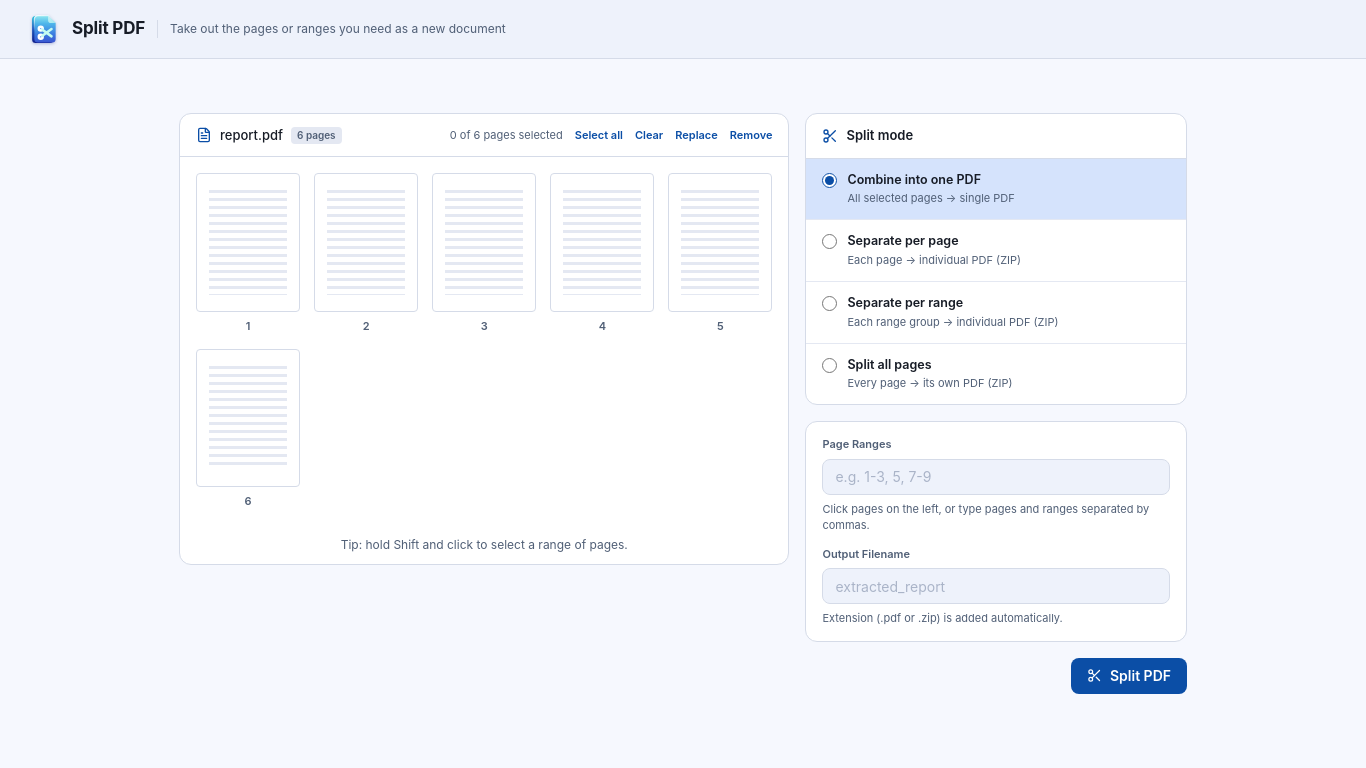
Scenario: extract page › shows the pages of a dropped PDF and keeps the grid and the field in step
The width and height of the screenshot is (1366, 768).
Expected: the text "6 pages" is shown, top-left (291, 127), bottom-right (342, 144)
Expected: the text "report.pdf" is shown, top-left (220, 126), bottom-right (283, 144)
Click the button "2".
click(366, 254)  # box top-left (314, 173), bottom-right (418, 335)
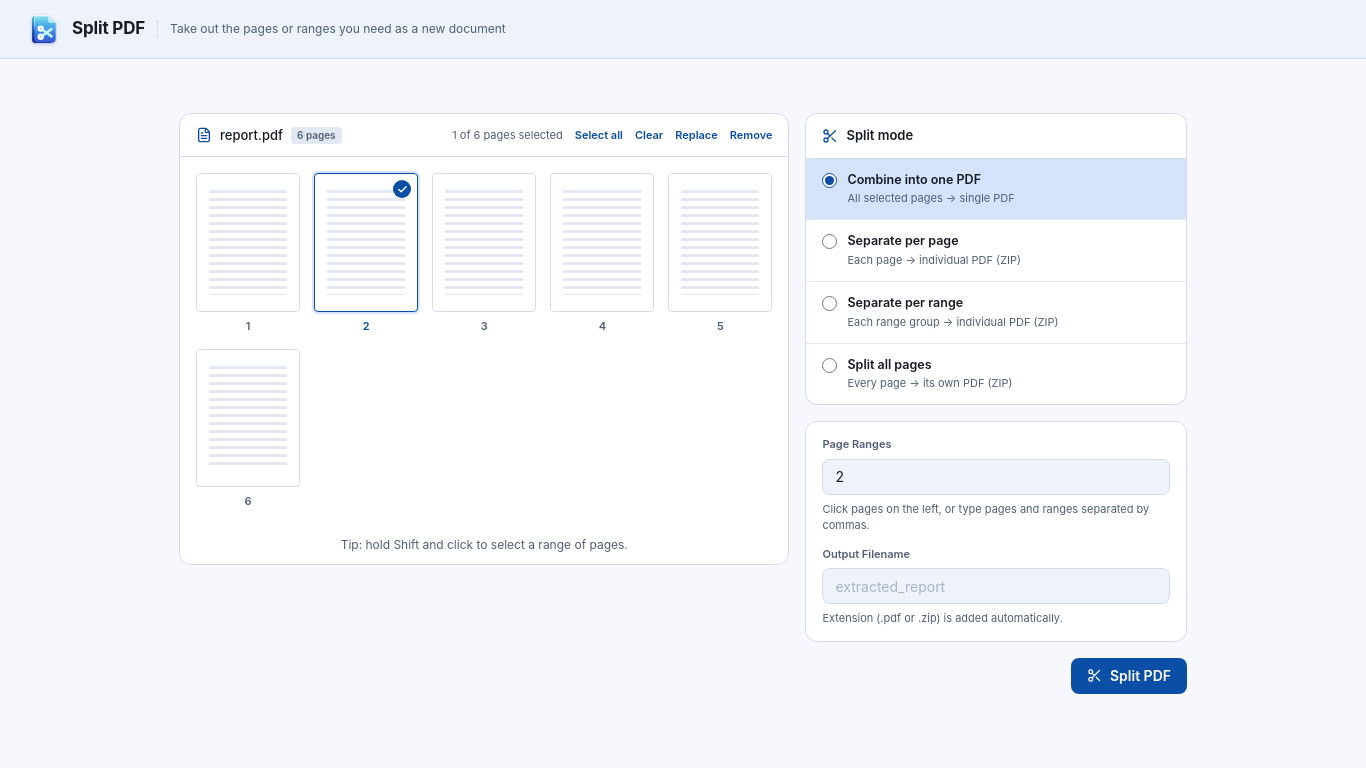
Click the button "3".
click(484, 254)  # box top-left (432, 173), bottom-right (536, 335)
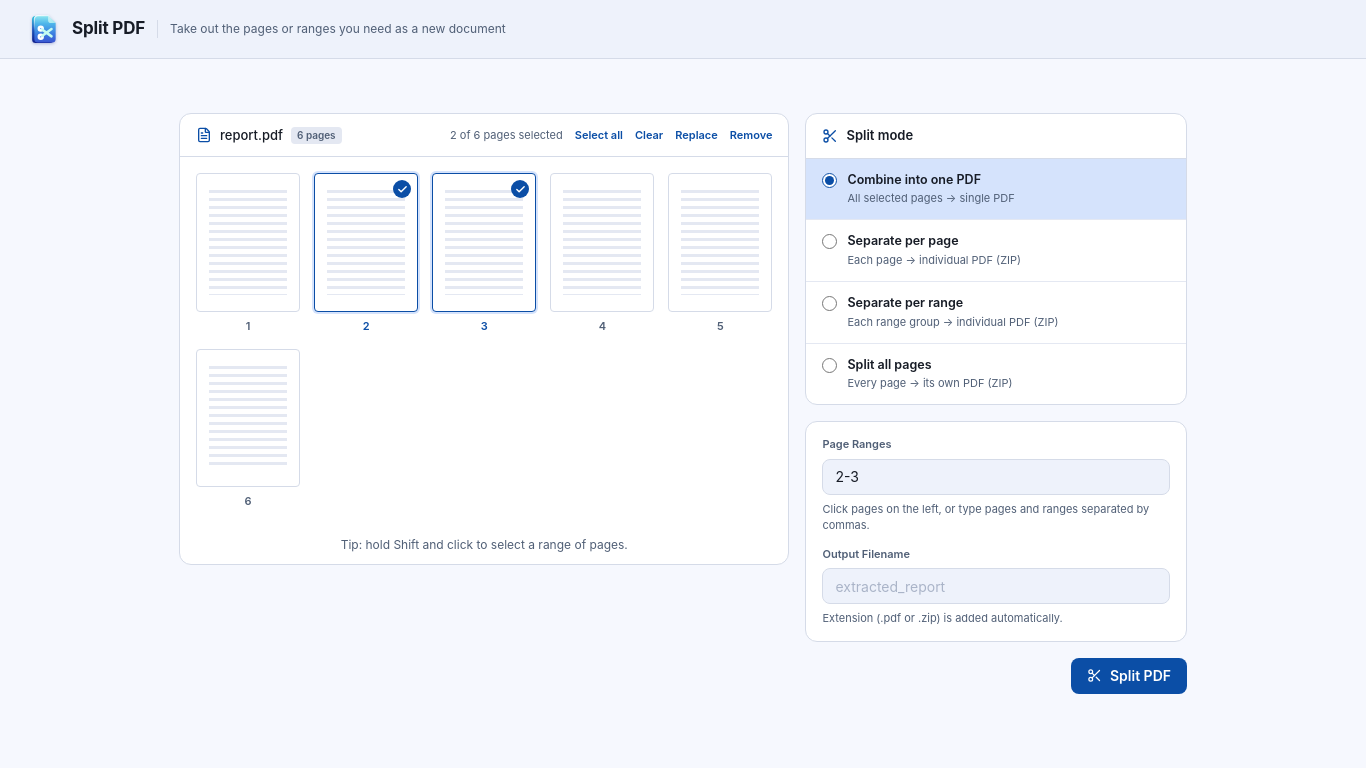
Click the button "5".
click(720, 254)  # box top-left (668, 173), bottom-right (772, 335)
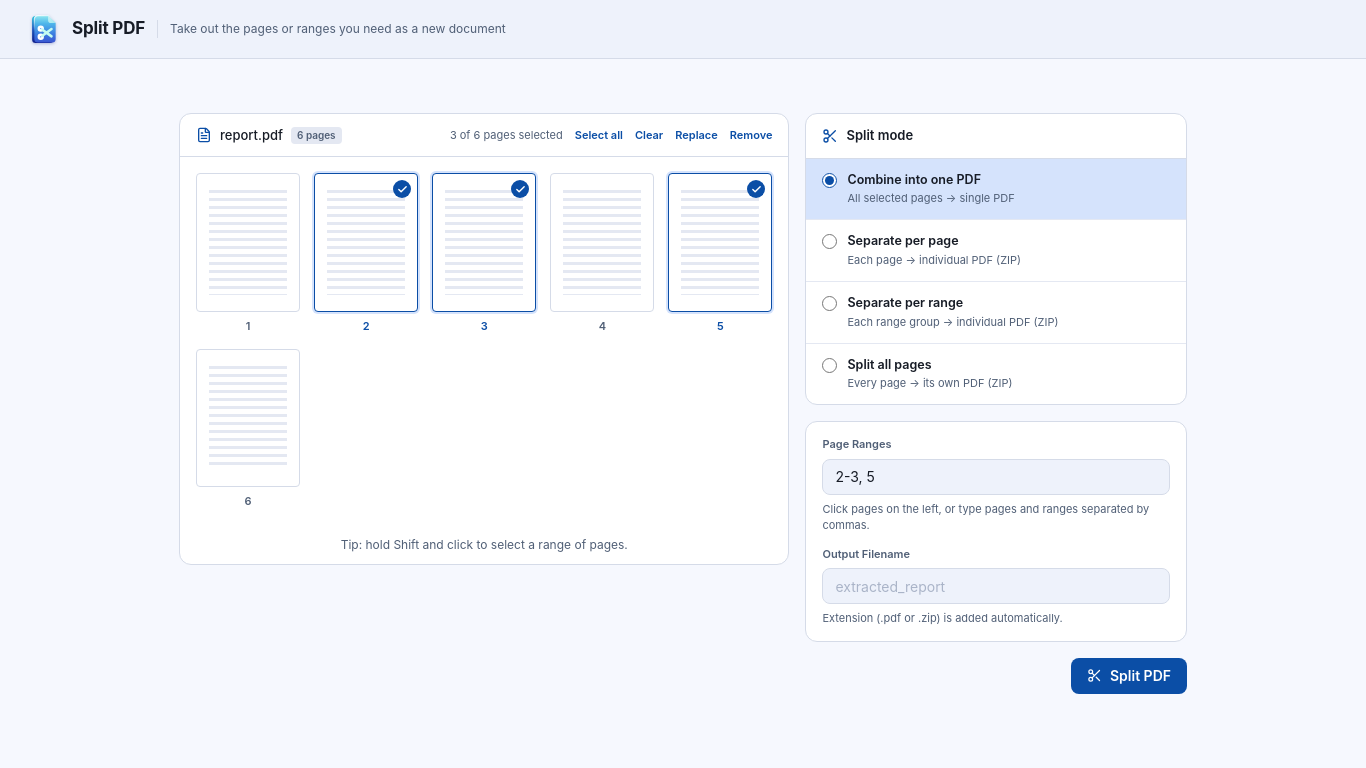
Now the field with id "extract-page-ranges" holds "2-3, 5"
Replace the text in the field with id "extract-page-ranges" with "1, 6" at (996, 477), box top-left (822, 459), bottom-right (1170, 495)
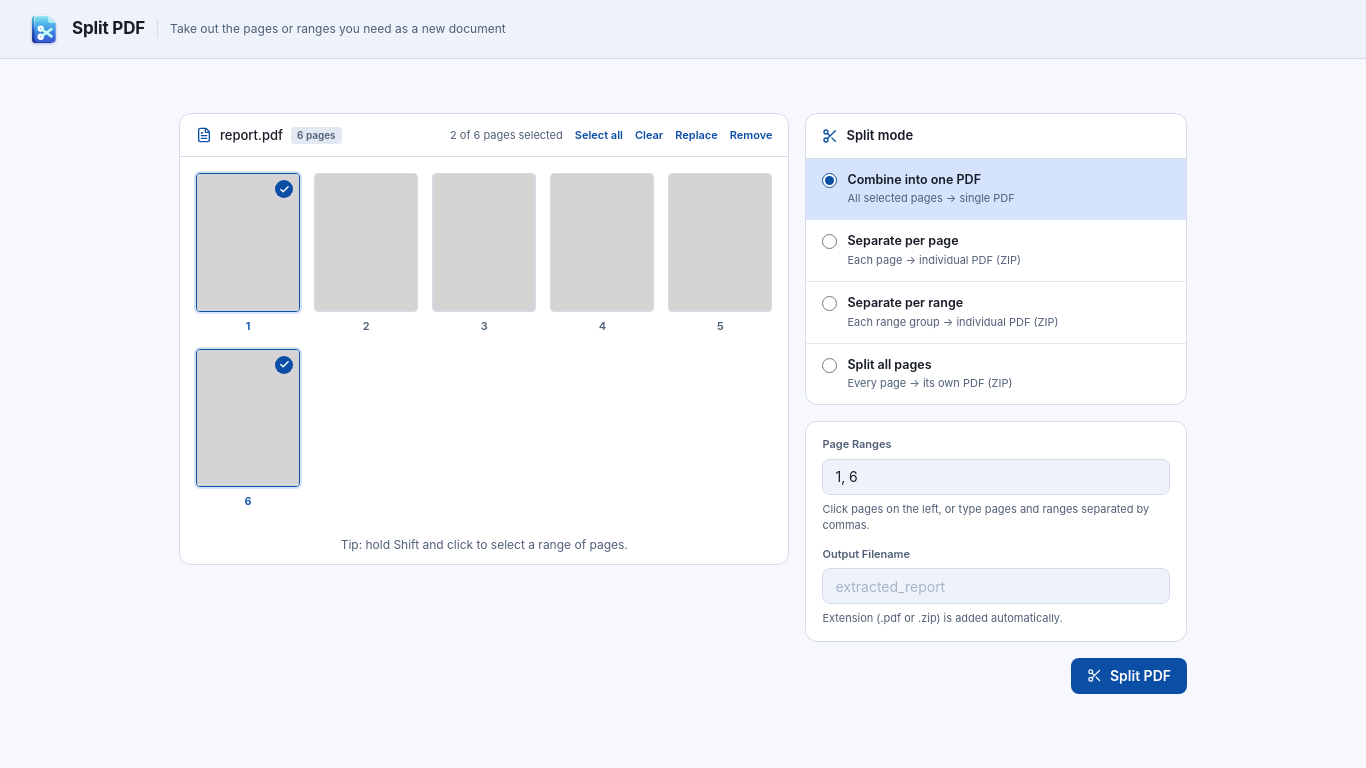
Now the text "2 of 6 pages selected" is shown, box top-left (450, 127), bottom-right (563, 144)
